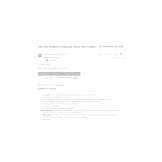

Layout of this report page (visuals, bound fields, positions):
{"tool":"powerbi","page":{"name":"Page 1","canvas":[1280,720],"ordinal":0},"visuals":[{"type":"group","id":"g1","title":"Group 2","box":[321.7,0,943.3,249.2],"z":0},{"type":"cardVisual","fields":{"Data":["Course.Total Courses"]},"box":[321.9,0,237.7,124.9],"z":0,"group":"g1"},{"type":"slicer","fields":{"Values":["Trainer.TrainerName"]},"box":[34.3,174.2,279.7,150],"z":0,"group":"g2"},{"type":"cardVisual","fields":{"Data":["Course.Total Mocks"]},"box":[549.9,0,238.4,124.9],"z":1000,"group":"g1"},{"type":"textbox","box":[25.4,36.9,296.2,50.9],"z":1000},{"type":"slicer","fields":{"Values":["Course.CourseName"]},"box":[34.3,339.5,279.7,255.5],"z":1000,"group":"g2"},{"type":"cardVisual","fields":{"Data":["Course.Trainer-Course Validated"]},"box":[788.3,0,238.4,124.9],"z":2000,"group":"g1"},{"type":"group","id":"g2","title":"Group 1","box":[34.3,174.2,279.7,507.3],"z":2000},{"type":"slicer","fields":{"Values":["TrainerCourseMapping.MappingStatus"]},"box":[34.3,610.3,279.7,71.2],"z":2000,"group":"g2"},{"type":"cardVisual","fields":{"Data":["Course.Avg Mocks per Trainer-Course"]},"box":[1026.7,0,238.4,124.9],"z":3000,"group":"g1"},{"type":"pivotTable","fields":{"Rows":["Trainer.TrainerName","Course.CourseName"],"Values":["Course.Total Mocks","Course.Latest Activity Type","Course.Latest Mock Summary"]},"box":[338.2,249.2,942.1,443.7],"z":3000},{"type":"cardVisual","fields":{"Data":["Course.Latest Mock Rating"]},"box":[321.7,124.6,943.3,124.6],"z":4000,"group":"g1"}]}

Visuals, with their boxes on the page's 1280x720 design canvas (x1, y1, x2, y2). These are canvas units, not pixel positions in the 162x162 screenshot, which may show the page scaled, cropped or inside an application window:
"Group 2" group: detection(322, 0, 1265, 249)
cardVisual - Course.Total Courses: detection(322, 0, 560, 125)
slicer - Trainer.TrainerName: detection(34, 174, 314, 324)
cardVisual - Course.Total Mocks: detection(550, 0, 788, 125)
textbox: detection(25, 37, 322, 88)
slicer - Course.CourseName: detection(34, 340, 314, 595)
cardVisual - Course.Trainer-Course Validated: detection(788, 0, 1027, 125)
"Group 1" group: detection(34, 174, 314, 682)
slicer - TrainerCourseMapping.MappingStatus: detection(34, 610, 314, 682)
cardVisual - Course.Avg Mocks per Trainer-Course: detection(1027, 0, 1265, 125)
pivotTable - Trainer.TrainerName x Course.CourseName: detection(338, 249, 1280, 693)
cardVisual - Course.Latest Mock Rating: detection(322, 125, 1265, 249)
